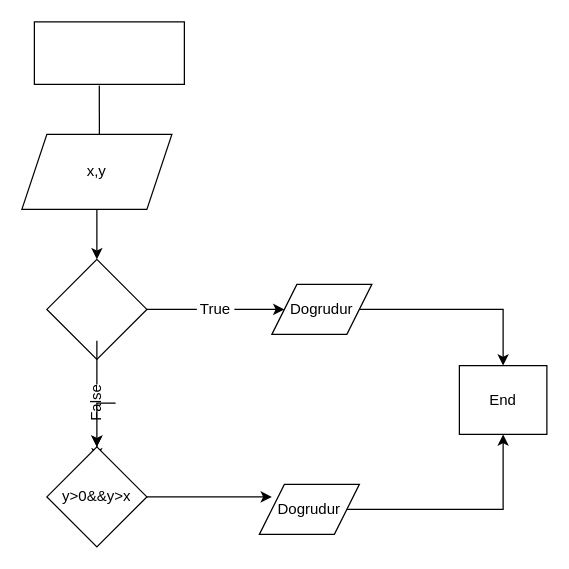
This 569x569 diagram has some shape labels left out. The box of each missing label's shape, as (x1, y1, x2, y2) in pixels:
Start: (33, 21, 184, 84)
x>0&&x>y: (46, 258, 147, 359)
